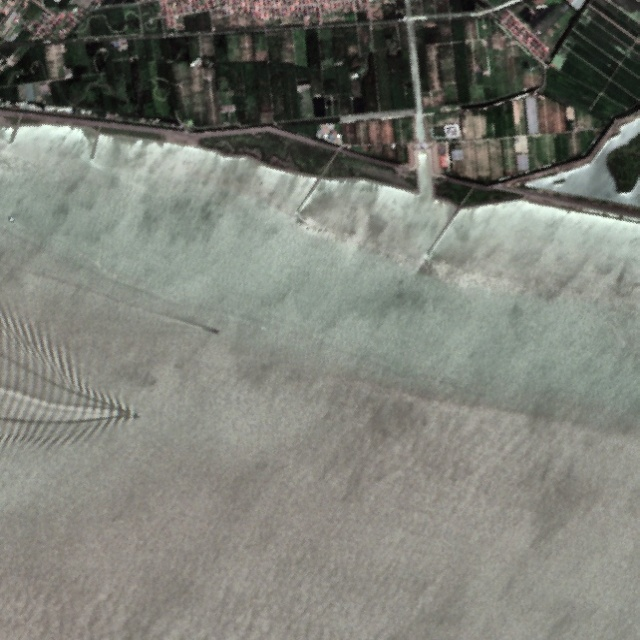wake: (25, 357, 149, 455)
